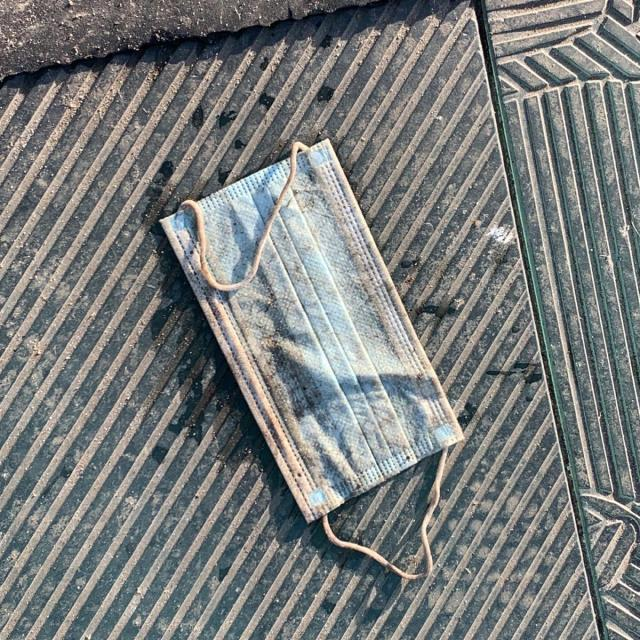Mask: (155, 136, 466, 587)
